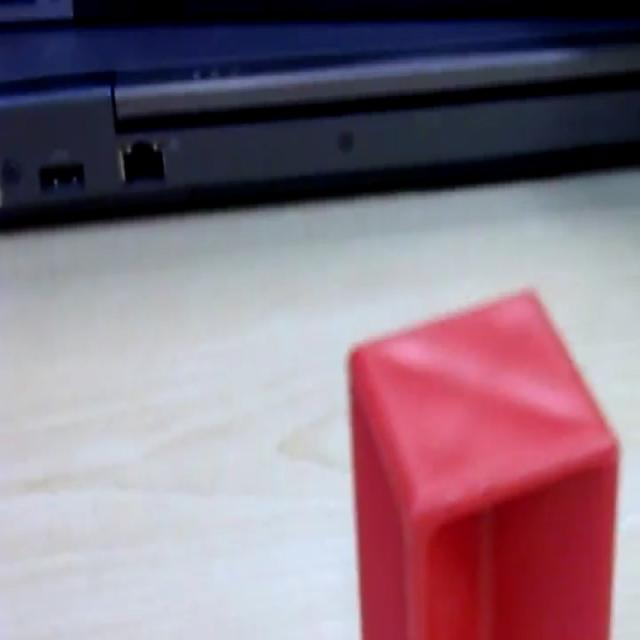red_block: (346, 284, 621, 637)
